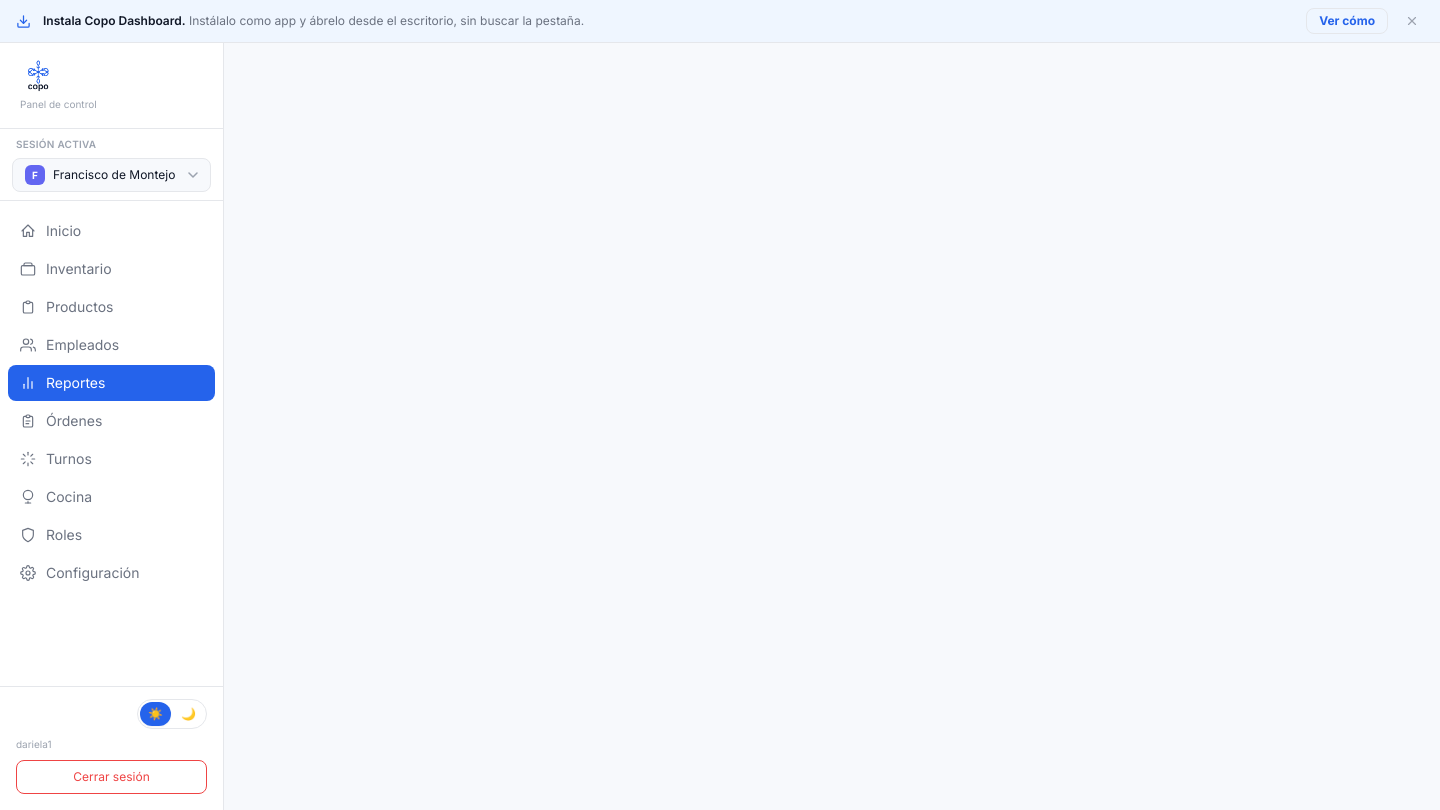
it: Sesión activa — opción "Todas las sucursales" › la ofrece a un ADMIN con acceso a varias sucursales
Click the text "Francisco de Montejo": x=116, y=175 [53,167,180,183]
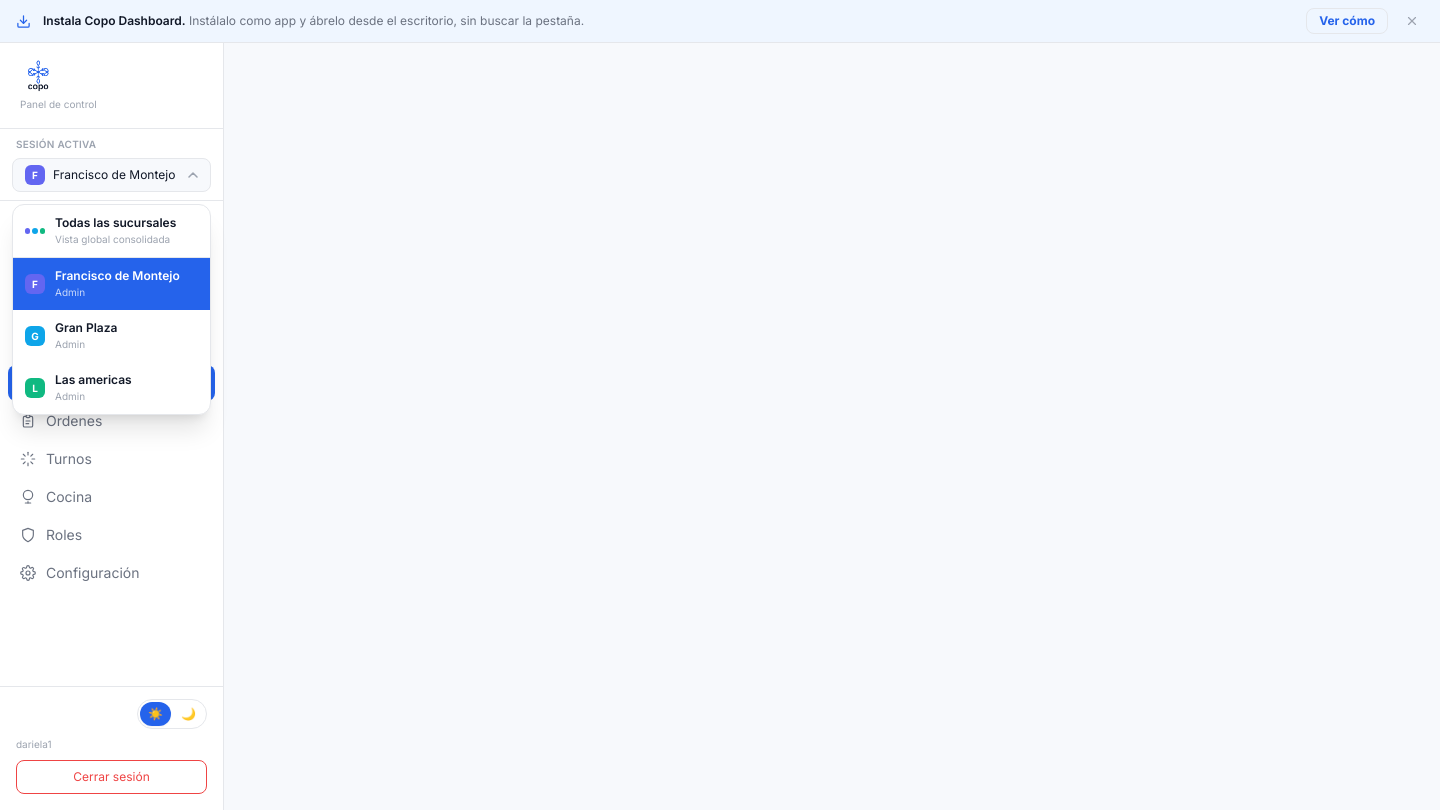
expect the text "Todas las sucursales" is shown: met, box [55,215,176,231]
